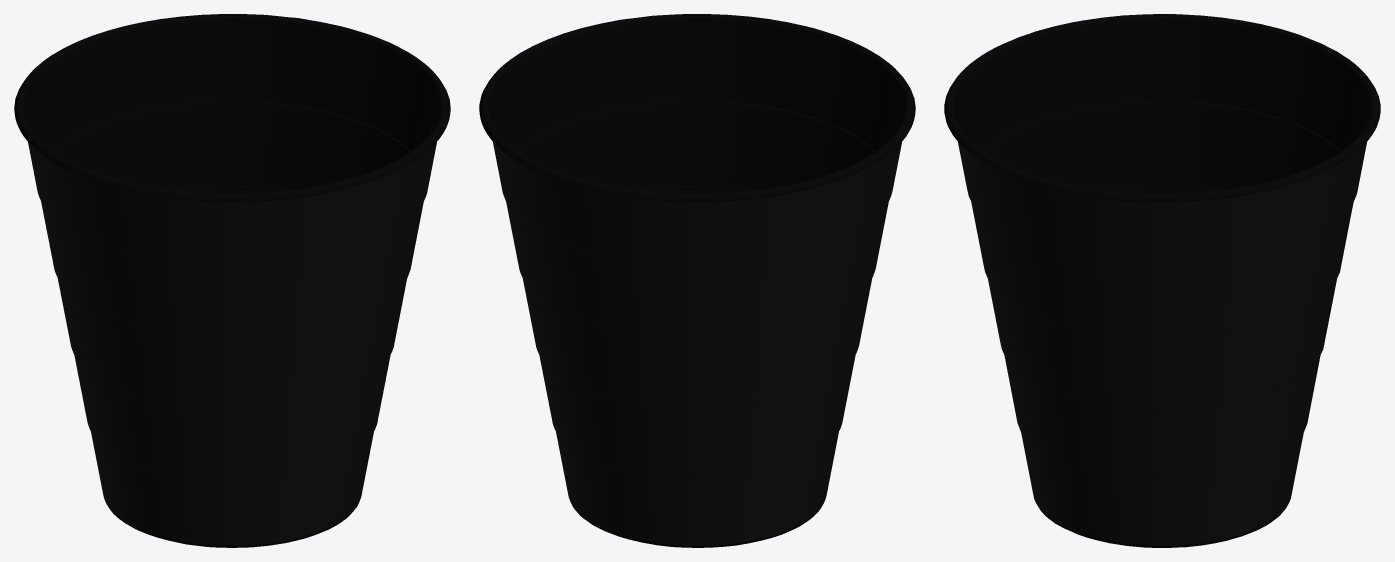
Rendered from fniss_kosz_na_odpady_60295438.glb.
The picture shows the model from 3 angles, left to right: view 1: azimuth 30°, elevation 25°; view 2: azimuth 150°, elevation 25°; view 3: azimuth 270°, elevation 25°; orthographic projection.
Parts seen in each view (by area): view 1: fniss_kosz_na_odpady_60295438; view 2: fniss_kosz_na_odpady_60295438; view 3: fniss_kosz_na_odpady_60295438.
Boxes of the visible parts, x1,y1,x2,y2 form: fniss_kosz_na_odpady_60295438: (14,14,450,547); fniss_kosz_na_odpady_60295438: (479,14,915,547); fniss_kosz_na_odpady_60295438: (944,14,1380,547).
Size of the model in its own units: 0.2794 by 0.2761 by 0.2794.
Materials: 1 (1 with a texture image).
